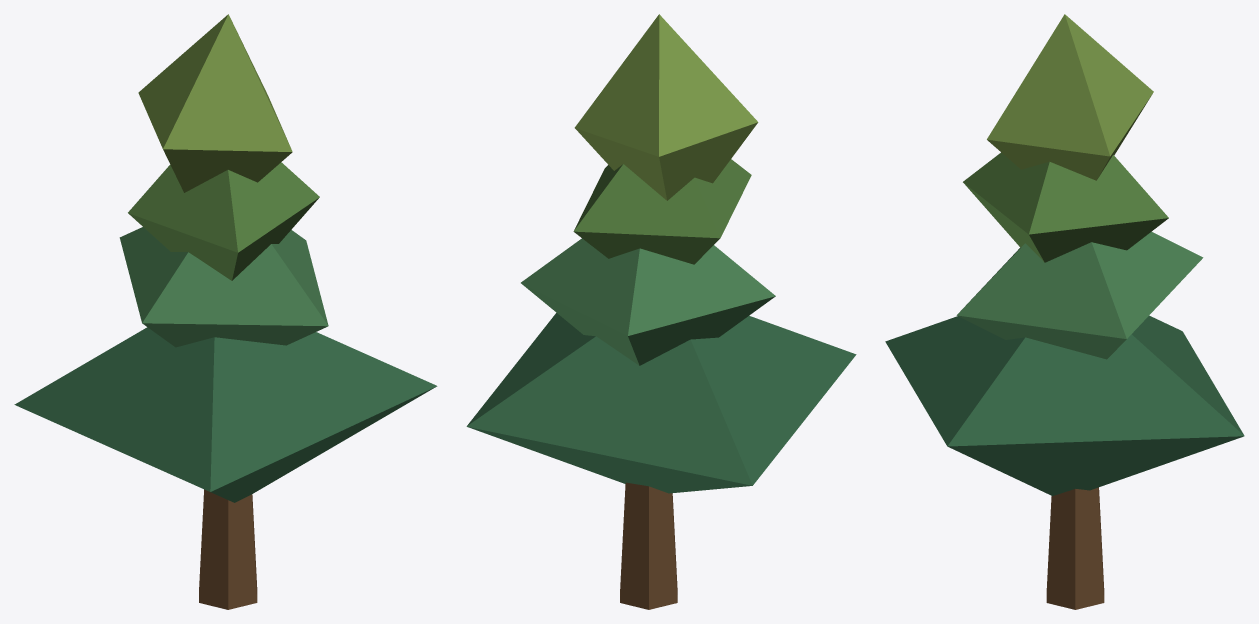
File: tree-pine-canopy-7.gltf
3 renders of one model, left to right at view 1: azimuth 30°, elevation 25°; view 2: azimuth 150°, elevation 25°; view 3: azimuth 270°, elevation 25°, orthographic.
Visible parts, largest first — view 1: tree-pine-canopy-7; view 2: tree-pine-canopy-7; view 3: tree-pine-canopy-7.
Boxes of the visible parts, x1=… form: tree-pine-canopy-7: x1=14, y1=14, x2=437, y2=609; tree-pine-canopy-7: x1=466, y1=14, x2=856, y2=609; tree-pine-canopy-7: x1=885, y1=14, x2=1244, y2=609.
Size of the model in its own units: 0.8951 by 1.65 by 0.9282.
